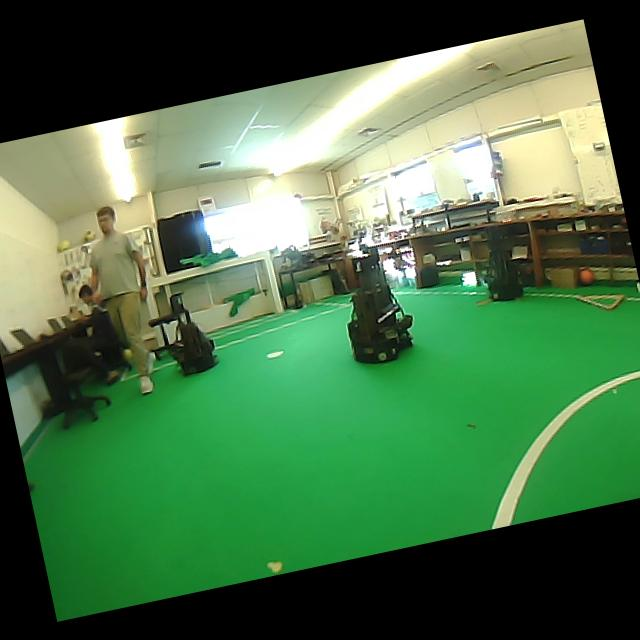ball: (578, 267, 594, 285), (56, 239, 72, 251), (83, 231, 94, 241)
goal: (264, 250, 283, 312)
robot: (347, 253, 412, 362), (169, 293, 214, 374), (486, 226, 523, 301)
